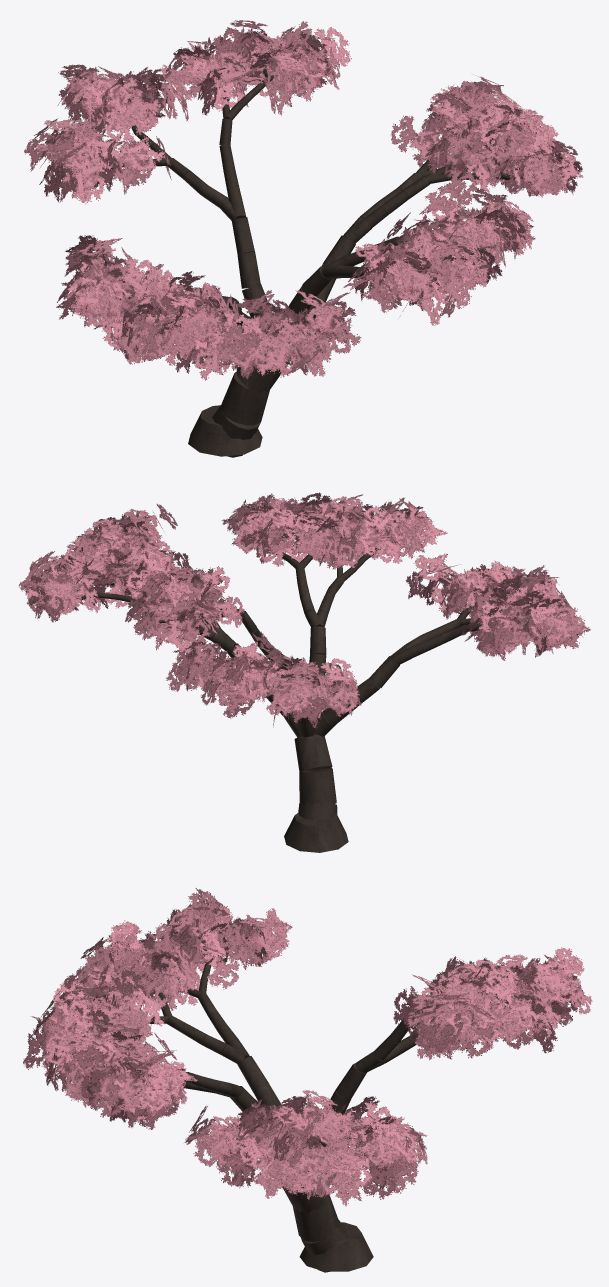
The model's file is Sakura_0.fbx.
3 views of the same model, one above another, from view 1: azimuth 30°, elevation 25°; view 2: azimuth 150°, elevation 25°; view 3: azimuth 270°, elevation 25° (orthographic). The views are drawn at different scales.
Parts seen in each view (by area): view 1: Sakura_0_LOD0; view 2: Sakura_0_LOD0; view 3: Sakura_0_LOD0.
Boxes of the visible parts, box(x1,y1,x2,y2) form: Sakura_0_LOD0: box(24, 20, 583, 457); Sakura_0_LOD0: box(18, 492, 590, 852); Sakura_0_LOD0: box(23, 888, 592, 1272).
Size of what is drawn, in the model's own units: 13.14 by 7.7 by 11.76.
